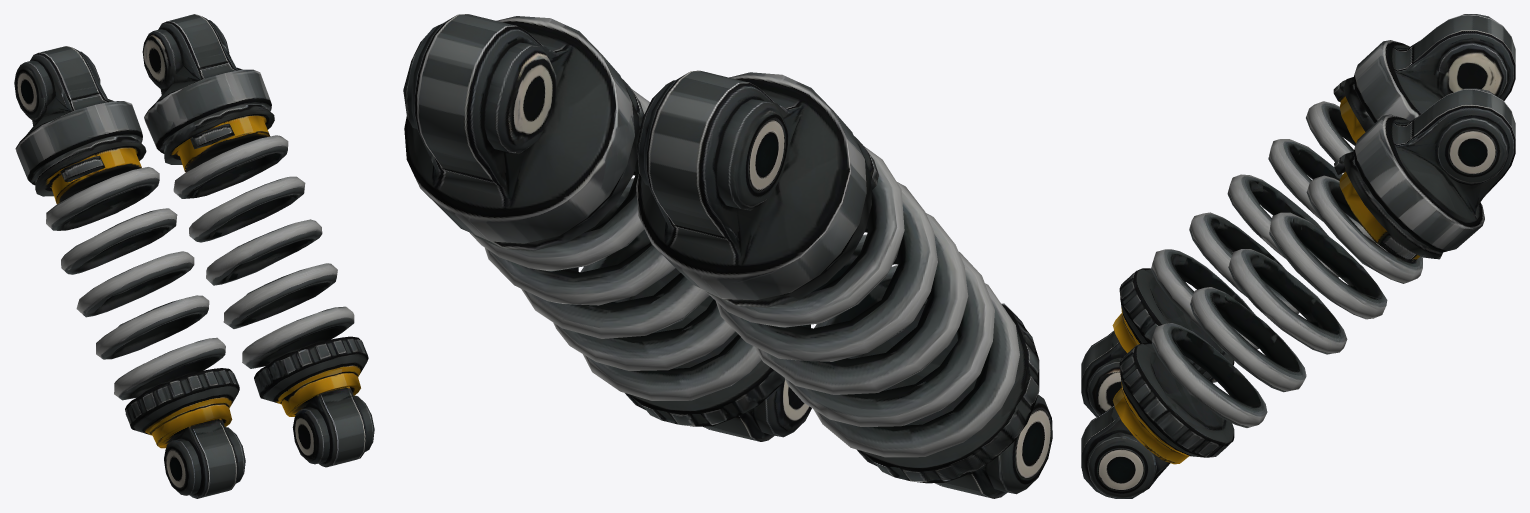
The model's file is blitz-offroad_suspension.glb.
The picture shows the model from 3 angles, left to right: view 1: azimuth 30°, elevation 25°; view 2: azimuth 150°, elevation 25°; view 3: azimuth 270°, elevation 25°; orthographic projection. The views are drawn at different scales.
Parts seen in each view (by area): view 1: tripo_node_ddc995a6-8a2e-4916-b64a-b8ea906b8dce; view 2: tripo_node_ddc995a6-8a2e-4916-b64a-b8ea906b8dce; view 3: tripo_node_ddc995a6-8a2e-4916-b64a-b8ea906b8dce.
Boxes of the visible parts, x1,y1,x2,y2 form: tripo_node_ddc995a6-8a2e-4916-b64a-b8ea906b8dce: (14, 14, 374, 498); tripo_node_ddc995a6-8a2e-4916-b64a-b8ea906b8dce: (403, 14, 1052, 498); tripo_node_ddc995a6-8a2e-4916-b64a-b8ea906b8dce: (1081, 14, 1515, 498).
Size of the model in its own units: 0.2588 by 0.34 by 0.34.
1 material, 1 textured.
